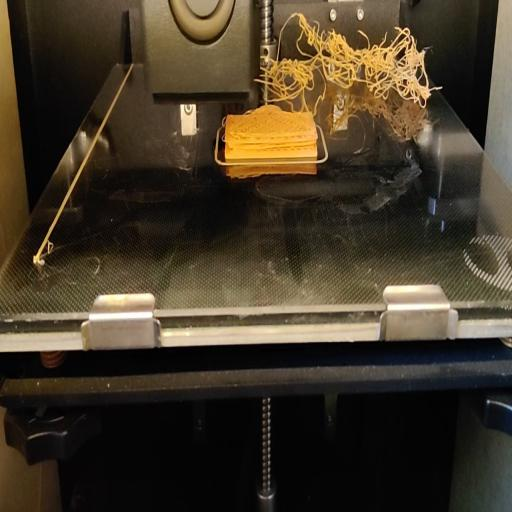spaghetti: (256, 12, 441, 116)
